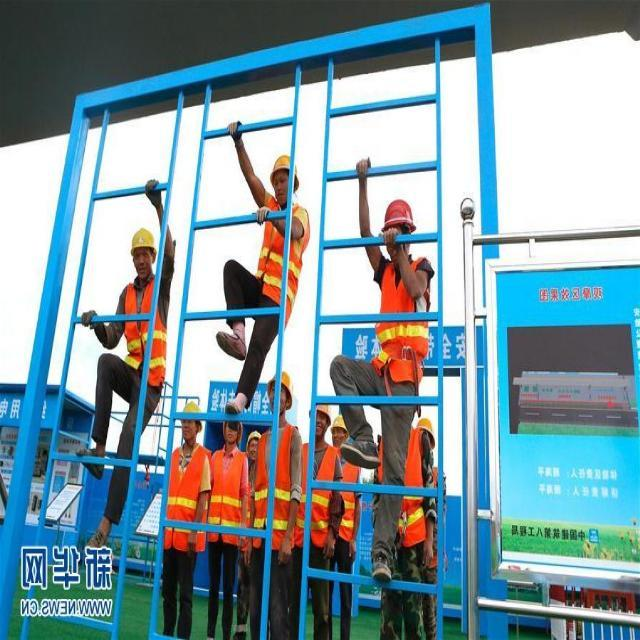reflective_jacket: (375, 247, 430, 382), (255, 199, 310, 308), (255, 420, 300, 537), (118, 274, 168, 379), (163, 443, 207, 542), (207, 446, 247, 529)
safety_helmet: (379, 194, 418, 231), (268, 145, 302, 181), (127, 223, 158, 252), (175, 396, 204, 422), (271, 365, 296, 395)
